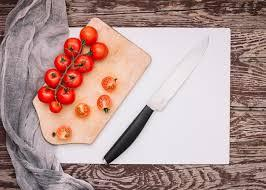Knife: (103, 34, 209, 163)
